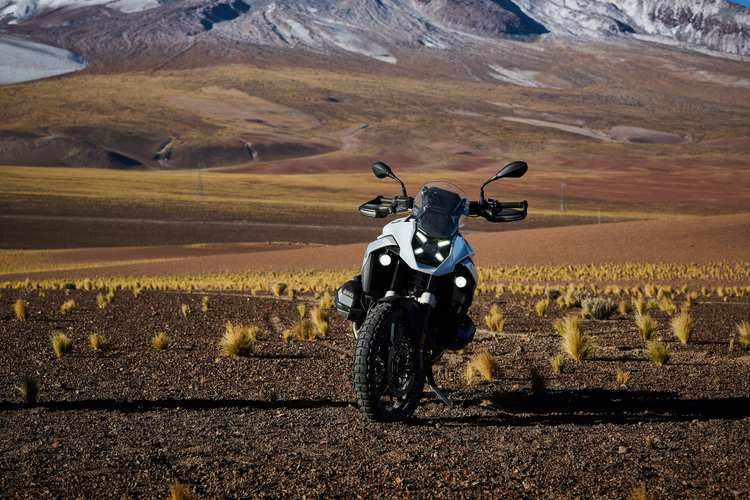摩托车: (335, 155, 532, 426)
